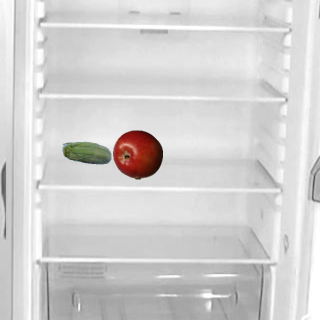Apple Braeburn: (112, 129, 162, 179)
Corn Husk: (61, 129, 111, 179)
